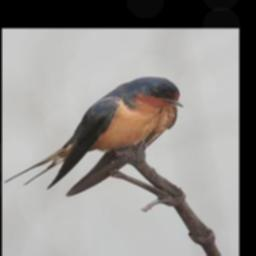Swallow: (6, 75, 186, 196)
